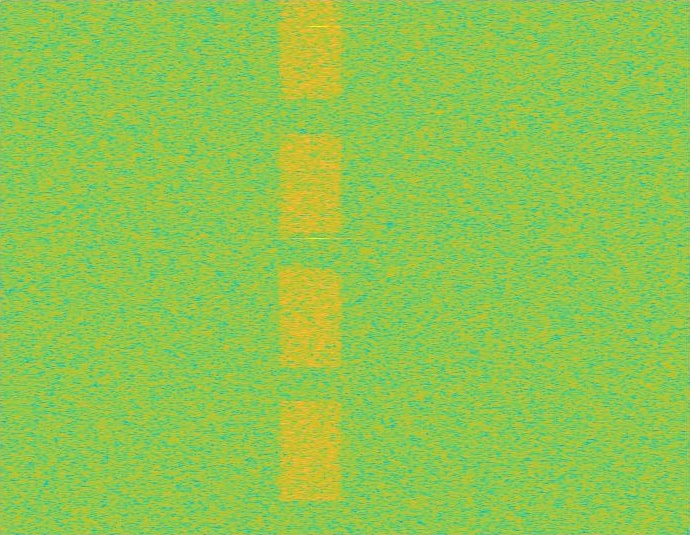5G: (276, 0, 345, 534)
Radar: (311, 0, 324, 534)
